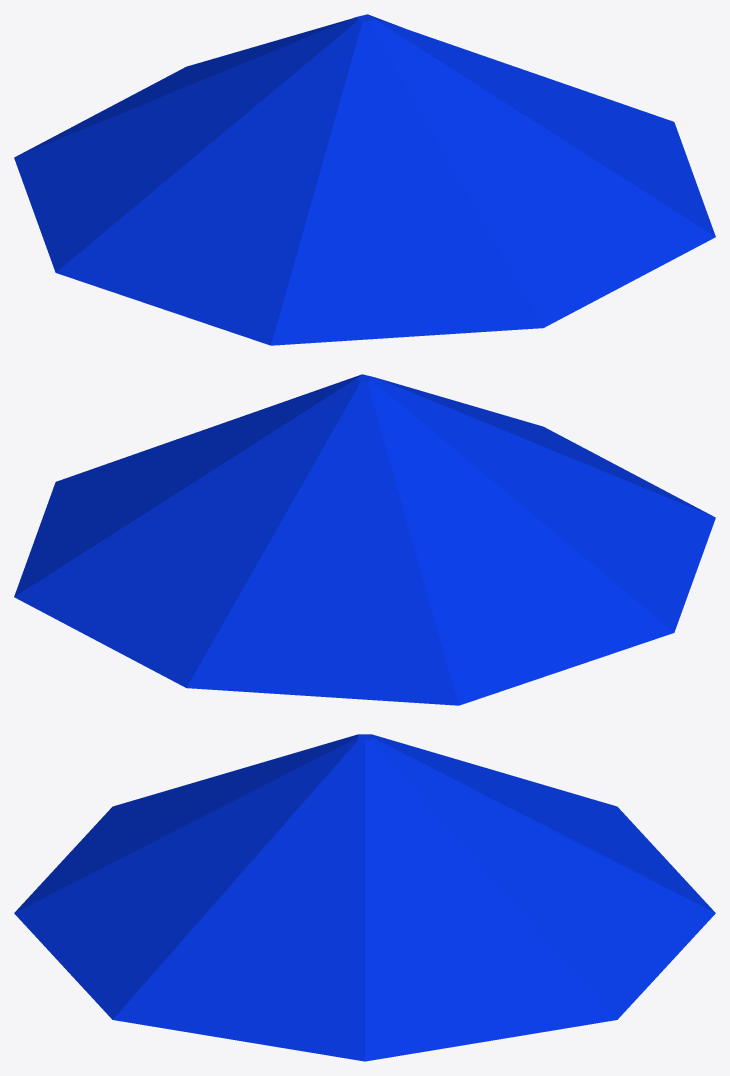
Rendered from Tower_Top_Dark_Blue.fbx.
3 views of the same model, one above another, from view 1: azimuth 30°, elevation 25°; view 2: azimuth 150°, elevation 25°; view 3: azimuth 270°, elevation 25° (orthographic).
Visible parts, largest first — view 1: Top_Blue; view 2: Top_Blue; view 3: Top_Blue.
Boxes of the visible parts, bbox=[...] form: Top_Blue: bbox=[14, 14, 715, 345]; Top_Blue: bbox=[14, 374, 715, 705]; Top_Blue: bbox=[14, 734, 715, 1061].
Size of the model in its own units: 2975 by 823 by 2975.
